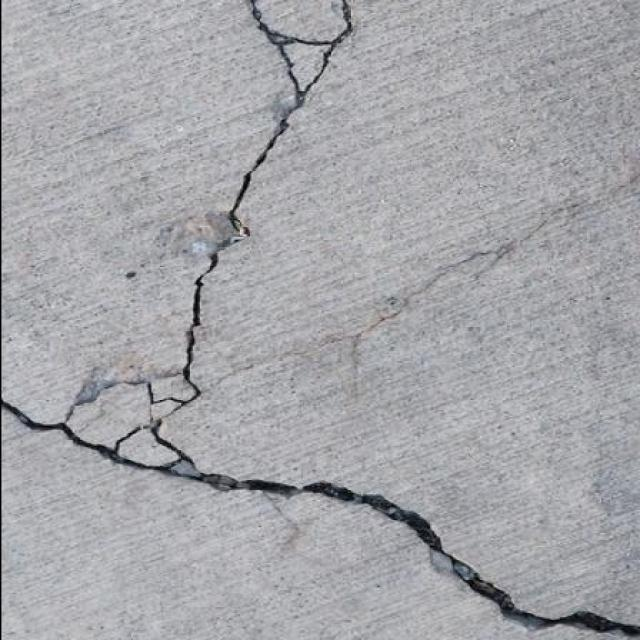Crack: (1, 0, 640, 634), (307, 273, 442, 354), (212, 356, 274, 388), (527, 204, 576, 236)
